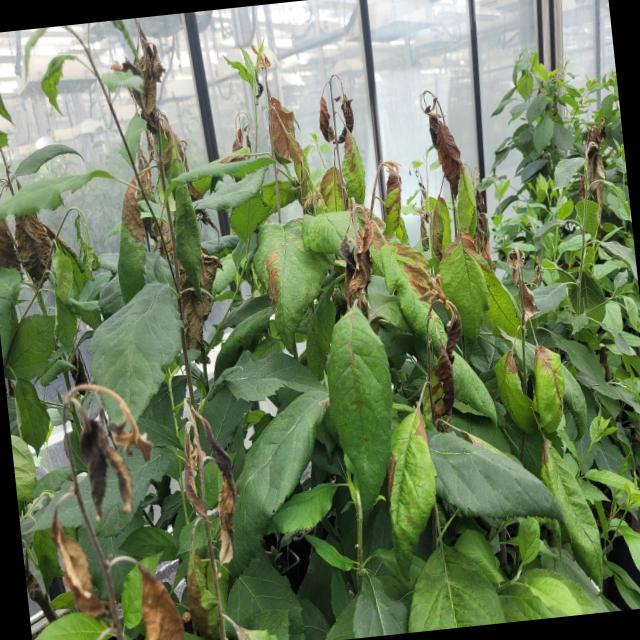-FireBlight-: (41, 379, 256, 640), (105, 45, 220, 341), (415, 90, 535, 324), (252, 35, 317, 214), (315, 74, 363, 210), (0, 206, 53, 291)
